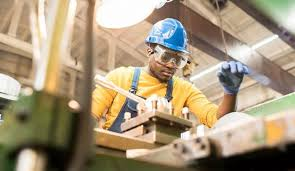Person_wearing_helmet: (139, 13, 193, 59)
